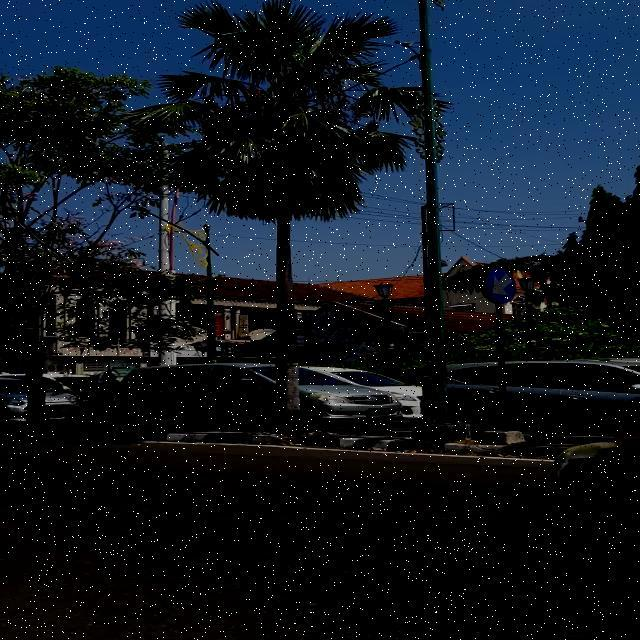Lajur Kiri: (486, 268, 516, 304)
